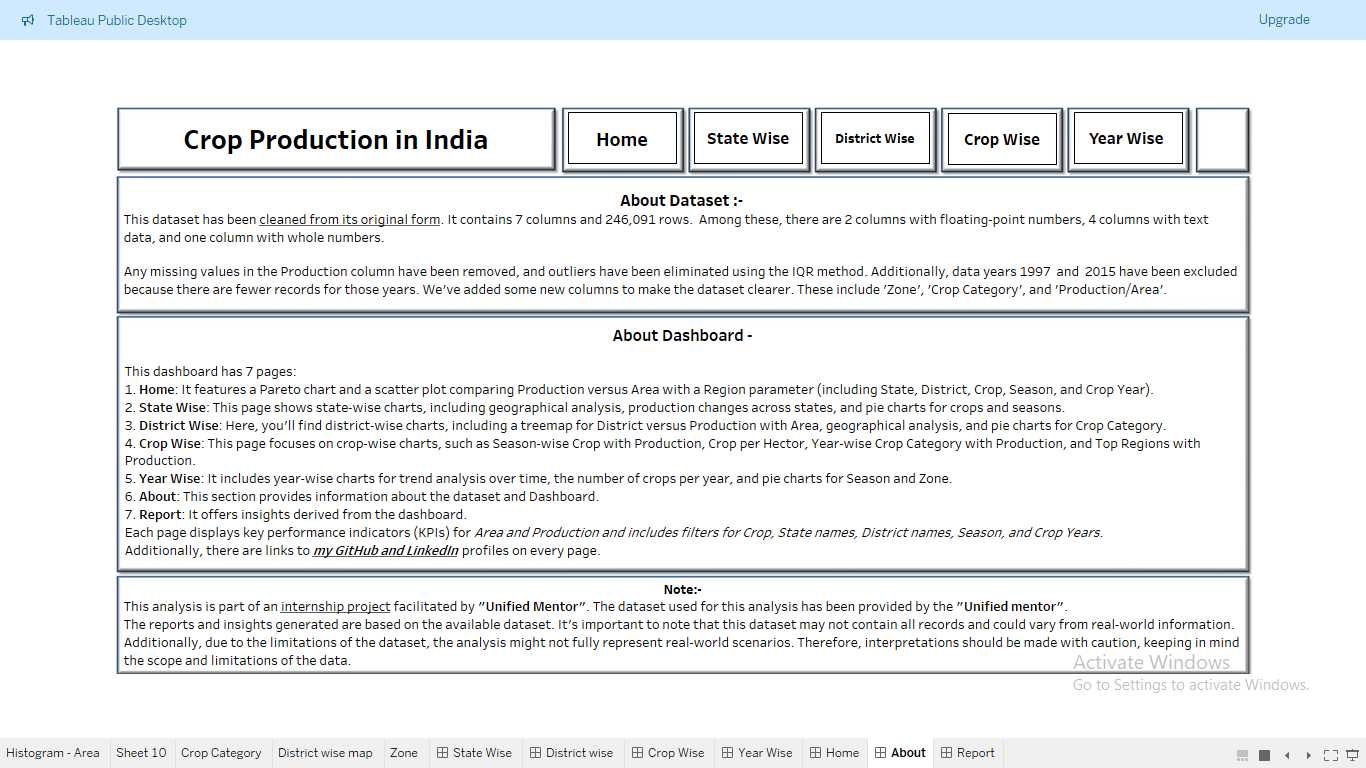

The page's visual inventory and layout, read from the dashboard file:
{"tool":"tableau","page":{"name":"Dashboard 7","canvas":[1000,1000],"units":"permille","ordinal":2},"visuals":[{"type":"text","box":[526.4,88.8,473.6,907.6]}]}

Visuals, with their boxes on the dashboard's canvas, which has no fixed pixel size, in thousandths of its width and height (x1, y1, x2, y2). These are canvas units, not pixel positions in the 1366x768 screenshot, which may show the page scaled, cropped or inside an application window:
text: 526, 89, 1000, 996
